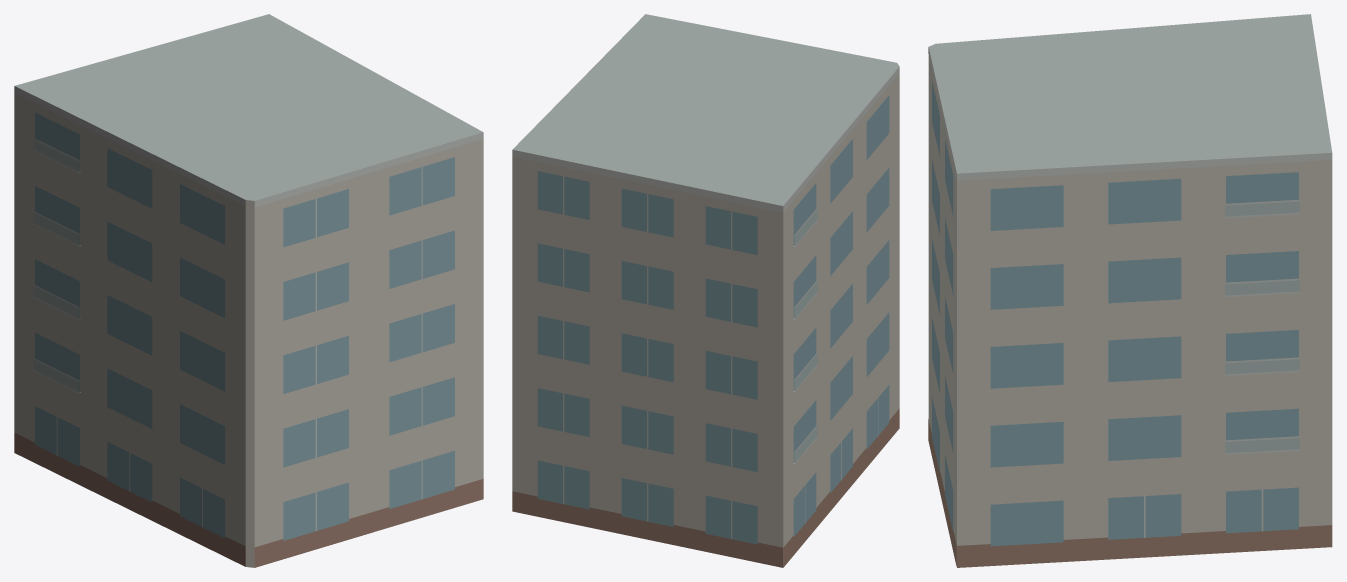
The model's file is survey-upis-32910297.glb.
The picture shows the model from 3 angles, left to right: view 1: azimuth 30°, elevation 25°; view 2: azimuth 150°, elevation 25°; view 3: azimuth 270°, elevation 25°; orthographic projection. The views are drawn at different scales.
Parts seen in each view (by area): view 1: survey-upis-32910297.tmp; view 2: survey-upis-32910297.tmp; view 3: survey-upis-32910297.tmp.
Boxes of the visible parts, x1,y1,x2,y2 form: survey-upis-32910297.tmp: [14, 14, 483, 567]; survey-upis-32910297.tmp: [512, 14, 899, 567]; survey-upis-32910297.tmp: [928, 14, 1332, 567].
Bounding box in the file's own units: 11.73 × 13.5 × 12.54.
